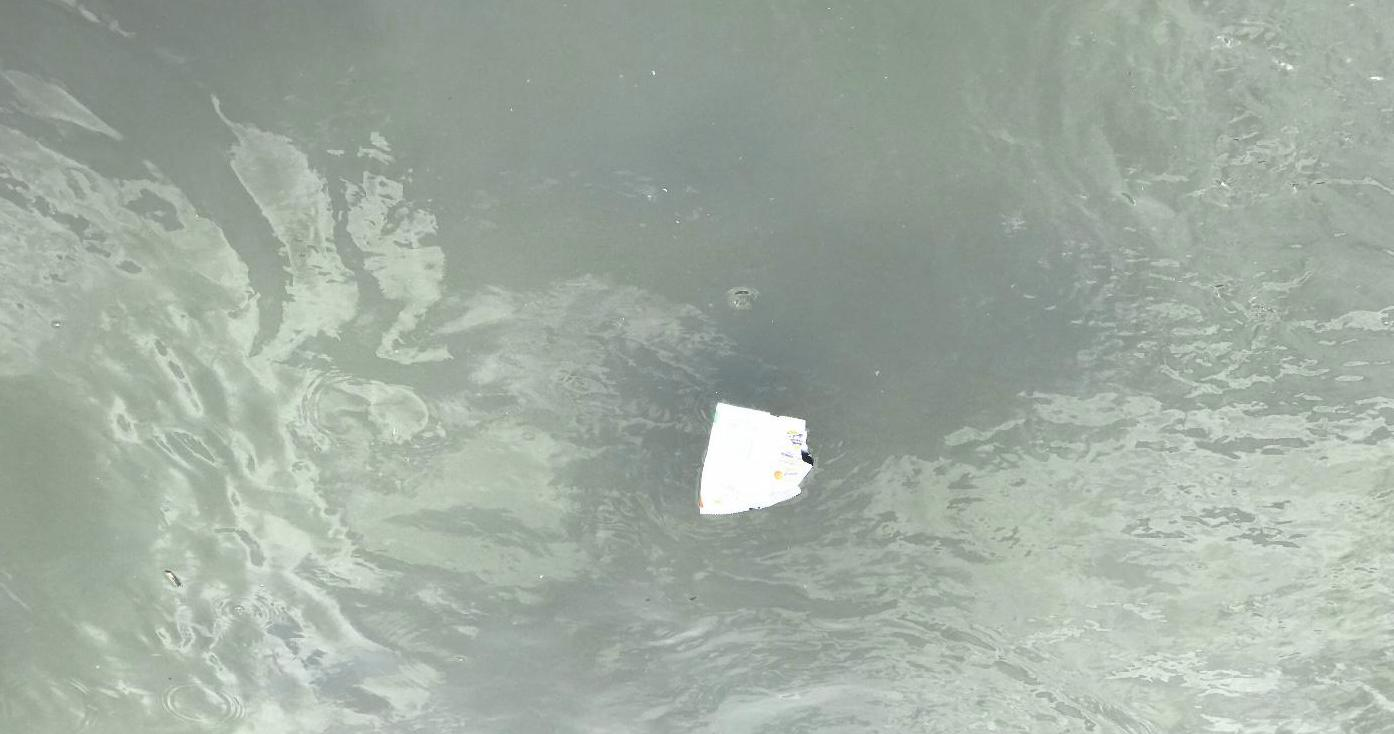Trash: (685, 396, 822, 527)
